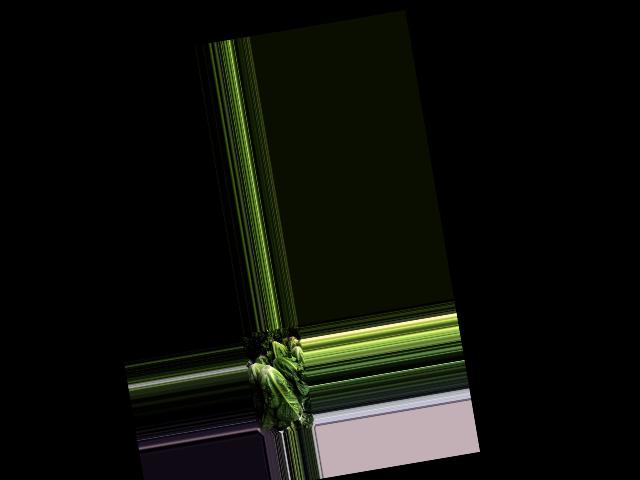lettuce: (272, 351, 308, 401)
